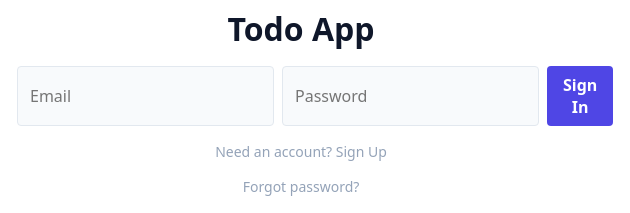
Scenario: AuthForm › toggles to sign up mode when toggle button clicked
Click the button "Need an account? Sign Up" at (301, 152), box top-left (17, 142), bottom-right (585, 161)
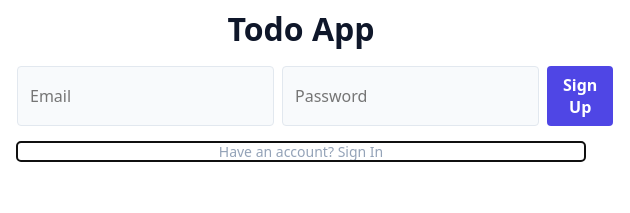
Result: the button "Sign Up" is shown at top-left (547, 66), bottom-right (613, 126)
Result: the button "Have an account? Sign In" is shown at top-left (17, 142), bottom-right (585, 161)
